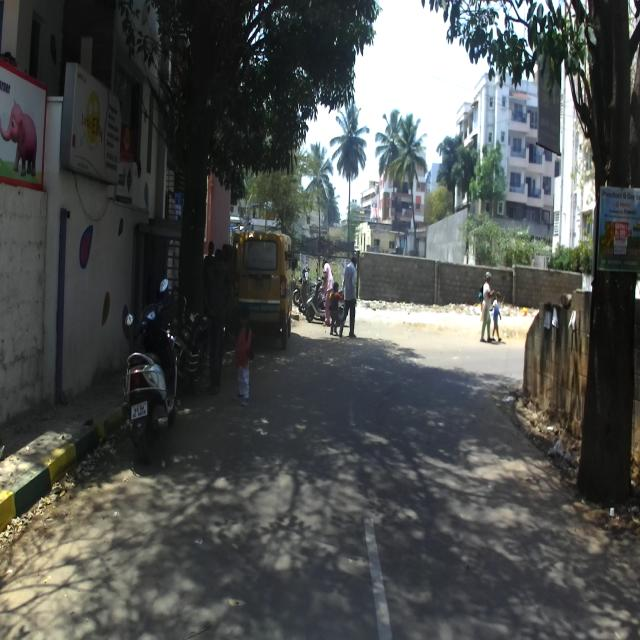car ahead at: (236, 234, 299, 342)
motorcycle ahead at: (116, 275, 185, 464)
tree ahead at: (571, 0, 639, 520)
